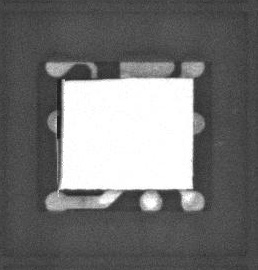DIE_BROKEN: (54, 76, 66, 188)
